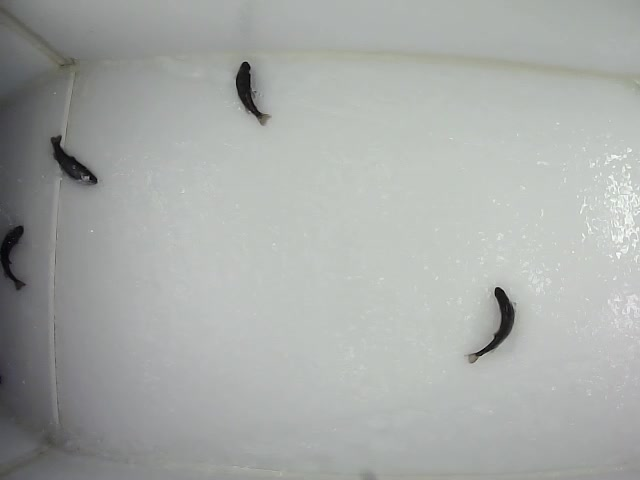fish: (463, 284, 516, 365), (50, 134, 100, 186), (234, 60, 272, 127), (1, 221, 29, 291)
